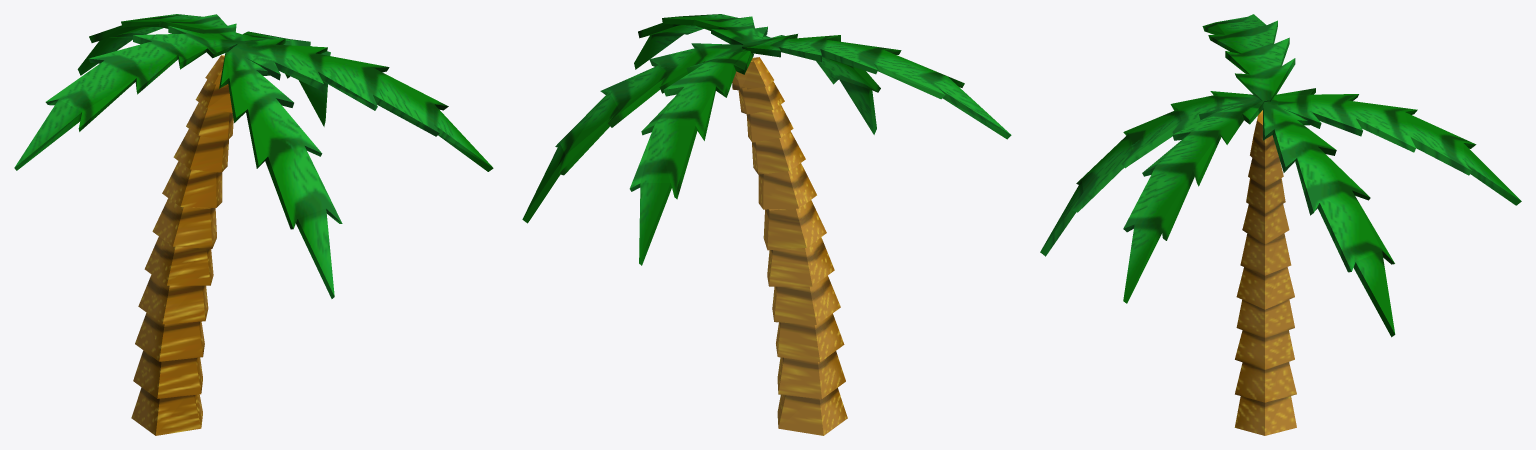
The model's file is Palm2.glb.
The picture shows the model from 3 angles, left to right: view 1: azimuth 30°, elevation 25°; view 2: azimuth 150°, elevation 25°; view 3: azimuth 270°, elevation 25°; orthographic projection. The views are drawn at different scales.
Visible parts, largest first — view 1: Palm2; view 2: Palm2; view 3: Palm2.
Boxes of the visible parts, bbox=[...] form: Palm2: bbox=[14, 14, 493, 435]; Palm2: bbox=[522, 14, 1011, 435]; Palm2: bbox=[1040, 14, 1521, 435].
Size of the model in its own units: 208 by 177 by 208.
Materials: 1 (1 with a texture image).
